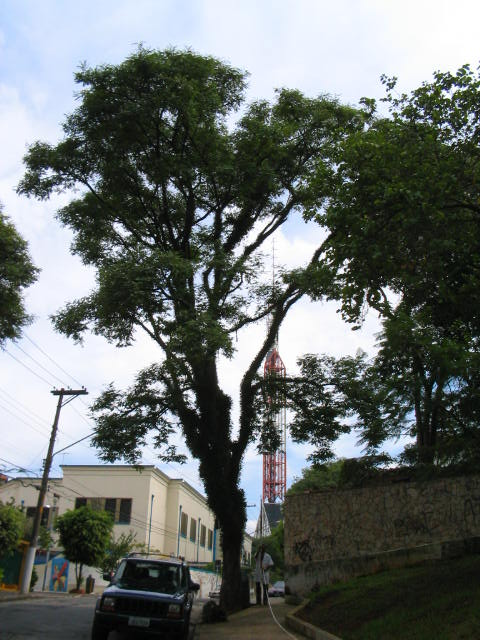crown: (20, 40, 375, 373)
stem: (190, 461, 254, 614)
stick: (253, 498, 271, 605)
tree: (16, 38, 377, 617)
